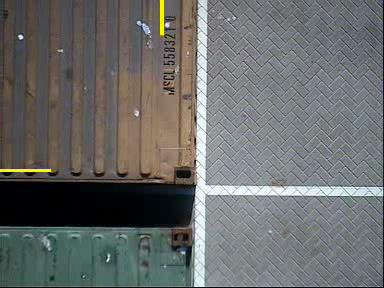groundmarker_2: (193, 161, 241, 220)
